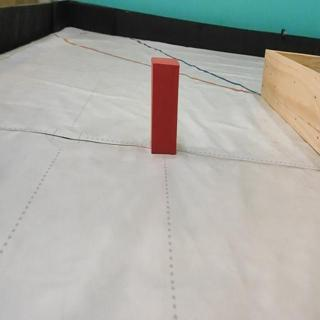redbox: (149, 55, 181, 154)
